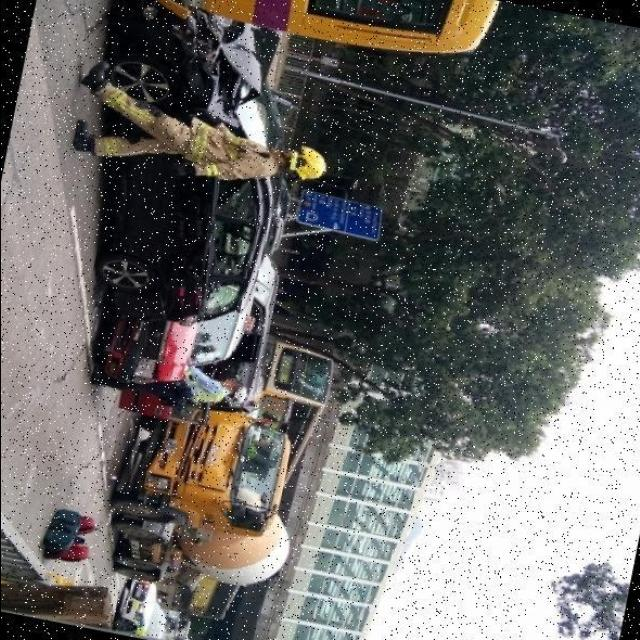accident: (66, 222, 296, 474), (111, 0, 326, 142)
